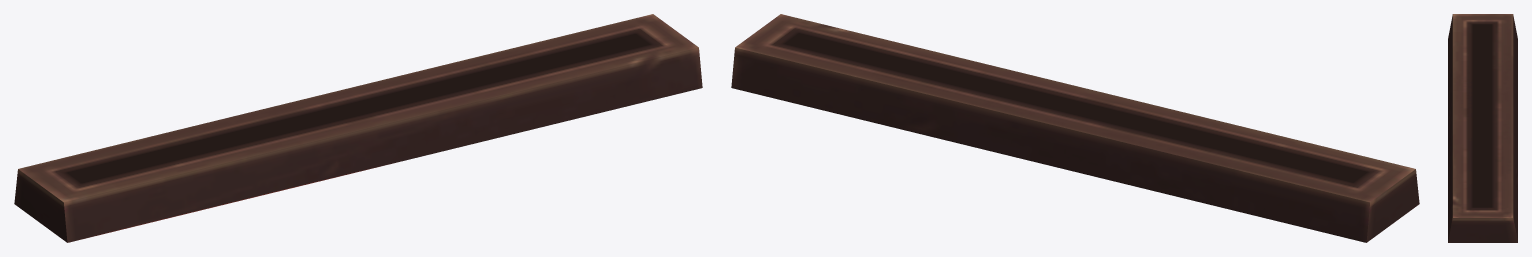
The model's file is sn_jixie_menjiguan_001.FBX.
3 views of the same model, side by side, from view 1: azimuth 30°, elevation 25°; view 2: azimuth 150°, elevation 25°; view 3: azimuth 270°, elevation 25° (orthographic). The views are drawn at different scales.
Parts seen in each view (by area): view 1: sn_jixie_menjiguan_001; view 2: sn_jixie_menjiguan_001; view 3: sn_jixie_menjiguan_001.
Part boxes in pixels (x1,y1,x2,y2): sn_jixie_menjiguan_001: (14, 14, 702, 242); sn_jixie_menjiguan_001: (731, 14, 1419, 242); sn_jixie_menjiguan_001: (1448, 14, 1517, 242).
Bounding box in the file's own units: 13.01 × 1.88 × 0.7399.
